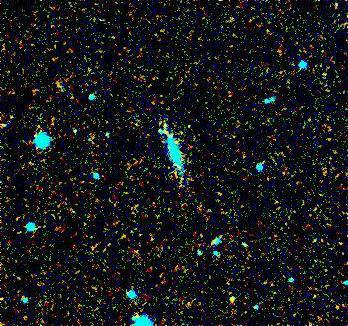star: (217, 283, 247, 313)
